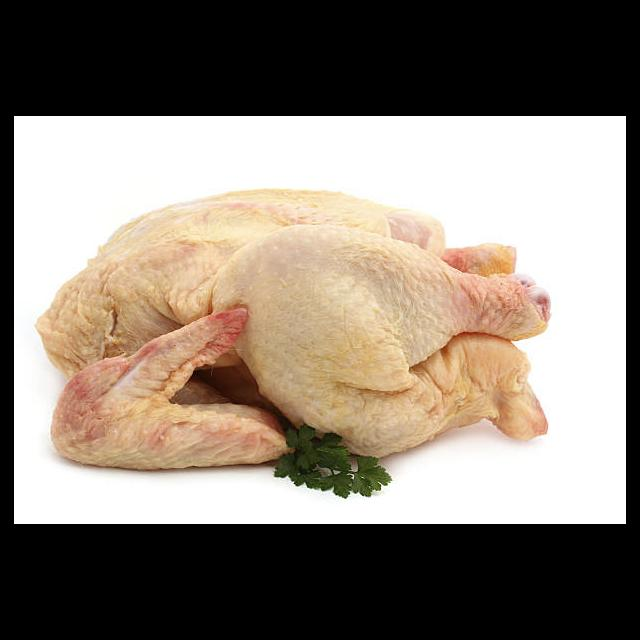chicken: (34, 188, 552, 469)
